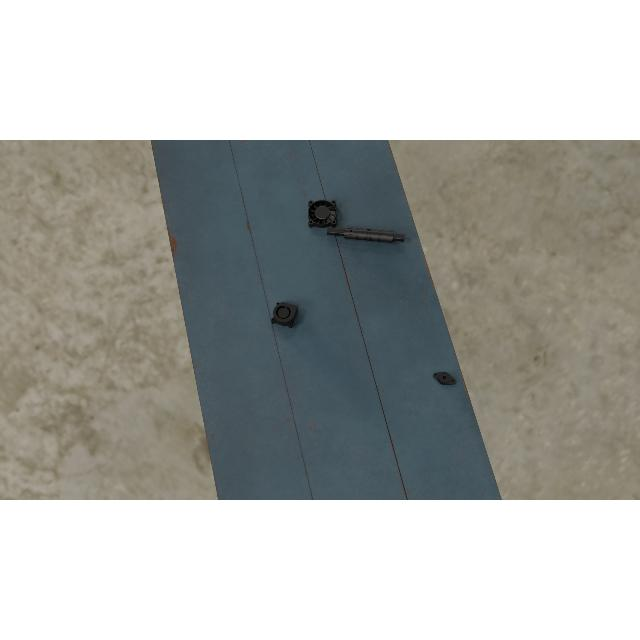Pieza1: (327, 224, 405, 246)
Pieza2: (430, 368, 458, 388)
Pieza3: (270, 300, 298, 330)
Pieza4: (308, 200, 337, 228)
